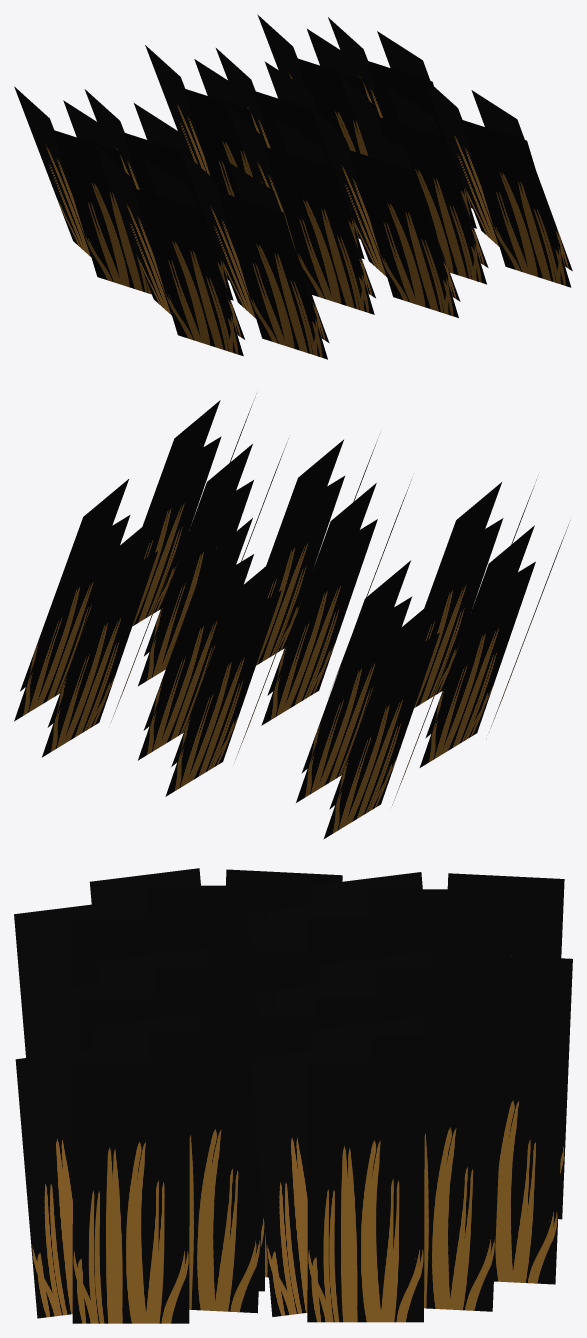
File: Grass.obj
The picture shows the model from 3 angles, top to bottom: view 1: azimuth 30°, elevation 25°; view 2: azimuth 150°, elevation 25°; view 3: azimuth 270°, elevation 25°; orthographic projection. The views are drawn at different scales.
Parts seen in each view (by area): view 1: Grass_Set_2.014_Plane.019, Grass_Set_2.013_Plane.018, Grass_Set_2.015_Plane.020; view 2: Grass_Set_2.014_Plane.019, Grass_Set_2.013_Plane.018, Grass_Set_2.015_Plane.020; view 3: Grass_Set_2.015_Plane.020, Grass_Set_2.014_Plane.019, Grass_Set_2.013_Plane.018.
Boxes of the visible parts, x1,y1,x2,y2 form: Grass_Set_2.014_Plane.019: [14, 86, 329, 359]; Grass_Set_2.013_Plane.018: [145, 45, 460, 317]; Grass_Set_2.015_Plane.020: [257, 14, 572, 287]; Grass_Set_2.014_Plane.019: [296, 479, 570, 839]; Grass_Set_2.013_Plane.018: [138, 434, 411, 796]; Grass_Set_2.015_Plane.020: [14, 393, 288, 757]; Grass_Set_2.015_Plane.020: [15, 1013, 566, 1323]; Grass_Set_2.014_Plane.019: [14, 868, 564, 1057]; Grass_Set_2.013_Plane.018: [22, 948, 572, 1219].
Bounding box in the file's own units: 10.51 × 4.82 × 9.57.
